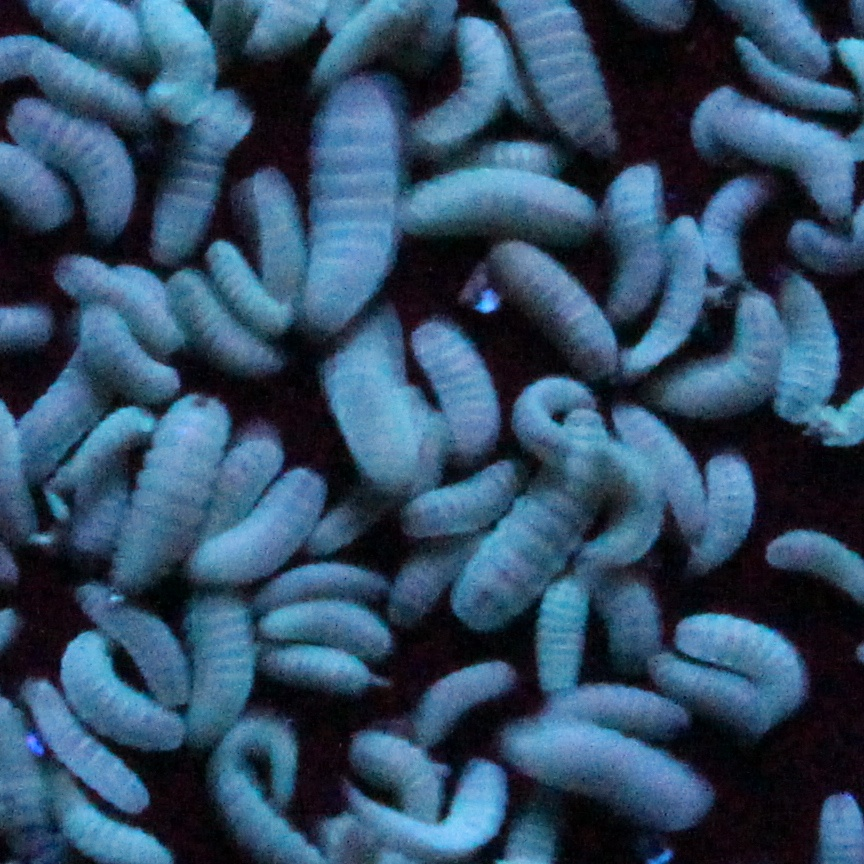larve: (465, 411, 608, 617), (498, 722, 719, 835), (110, 392, 219, 604), (310, 82, 396, 332), (344, 721, 512, 848), (705, 103, 863, 234), (8, 104, 146, 240), (186, 466, 325, 587), (55, 632, 191, 754), (498, 240, 617, 369), (665, 288, 777, 413), (398, 168, 600, 237), (410, 318, 505, 461), (663, 616, 812, 703), (412, 23, 508, 144), (48, 261, 179, 348), (172, 273, 275, 373), (185, 596, 256, 740), (774, 272, 843, 418), (644, 647, 767, 728), (77, 306, 179, 403), (167, 103, 235, 248), (260, 590, 393, 656), (21, 46, 140, 117), (688, 453, 755, 578), (606, 159, 658, 319), (420, 656, 515, 742), (258, 640, 382, 697), (212, 244, 291, 327)
